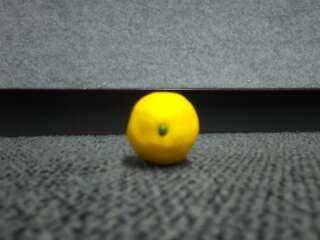lemon: (127, 91, 199, 167)
